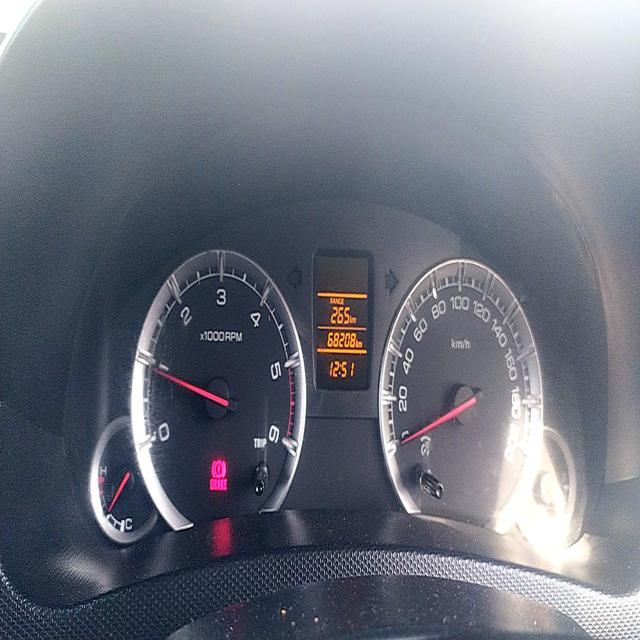odometer: (324, 328, 357, 349)
